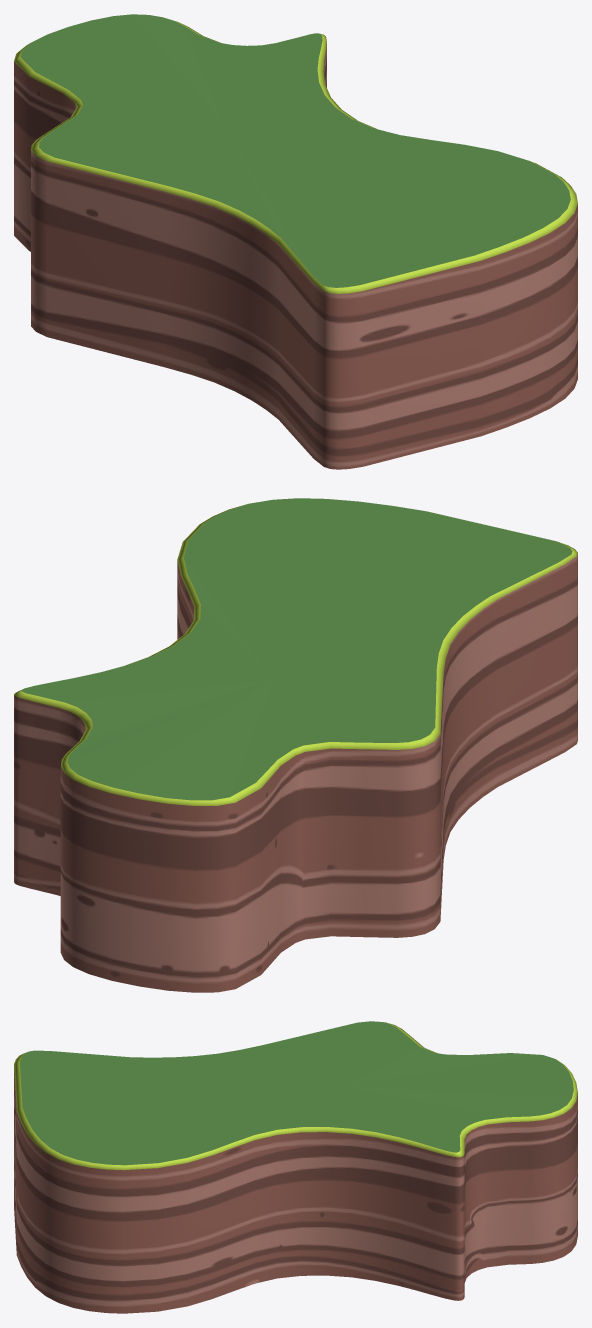
File: grasschunk7.glb
3 renders of one model, top to bottom at view 1: azimuth 30°, elevation 25°; view 2: azimuth 150°, elevation 25°; view 3: azimuth 270°, elevation 25°, orthographic. The views are drawn at different scales.
Visible parts, largest first — view 1: Plate_Curved_Var16_06_Forest_mat_01_0; view 2: Plate_Curved_Var16_06_Forest_mat_01_0; view 3: Plate_Curved_Var16_06_Forest_mat_01_0.
Boxes of the visible parts, x1,y1,x2,y2 form: Plate_Curved_Var16_06_Forest_mat_01_0: (14, 14, 577, 469); Plate_Curved_Var16_06_Forest_mat_01_0: (14, 498, 577, 992); Plate_Curved_Var16_06_Forest_mat_01_0: (14, 1021, 577, 1313).
Size of the model in its own units: 0.0705 by 0.0324 by 0.1131.
1 material, 1 textured.
